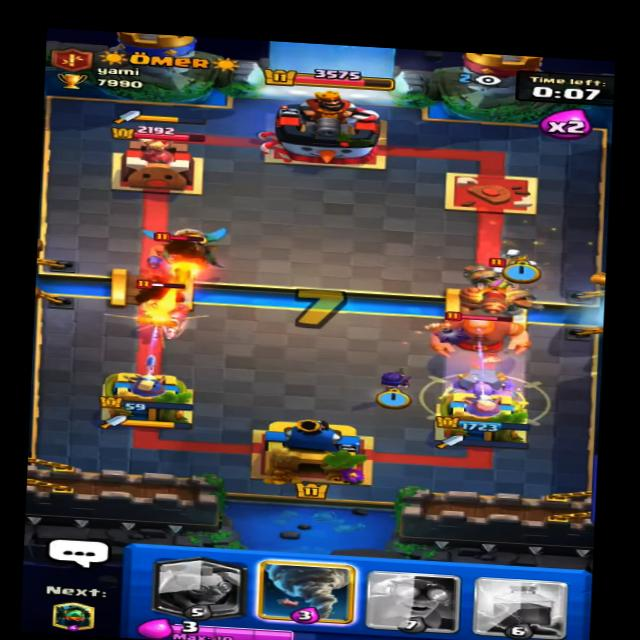fisherman: (146, 231, 223, 280)
giant: (422, 302, 543, 363)
goblin-machine: (437, 263, 550, 315)
prince: (134, 285, 195, 339)
